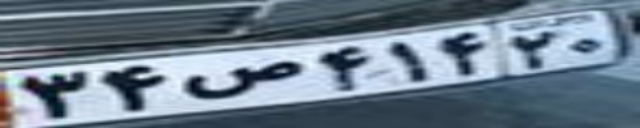0: (565, 36, 602, 54)
1: (388, 40, 430, 81)
2: (507, 30, 555, 69)
3: (22, 71, 88, 118)
4: (103, 64, 167, 110), (317, 44, 367, 91), (438, 32, 483, 74)
saat: (180, 60, 302, 100)
